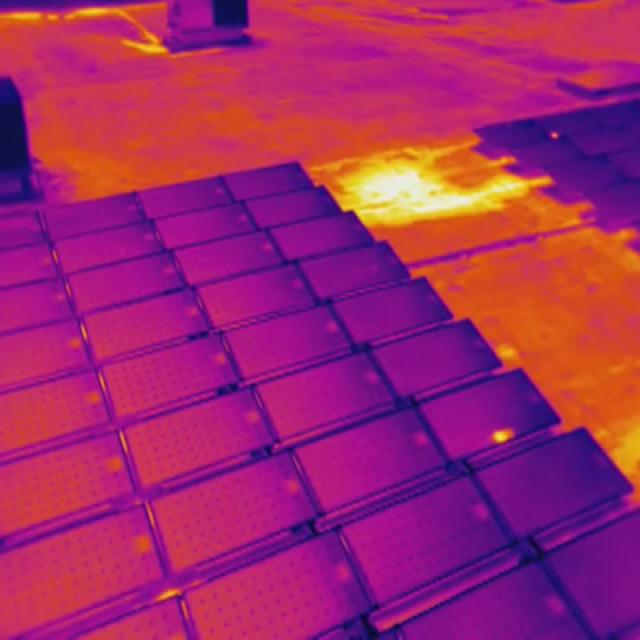Orange-Spots: (492, 427, 516, 443), (551, 132, 559, 140)
